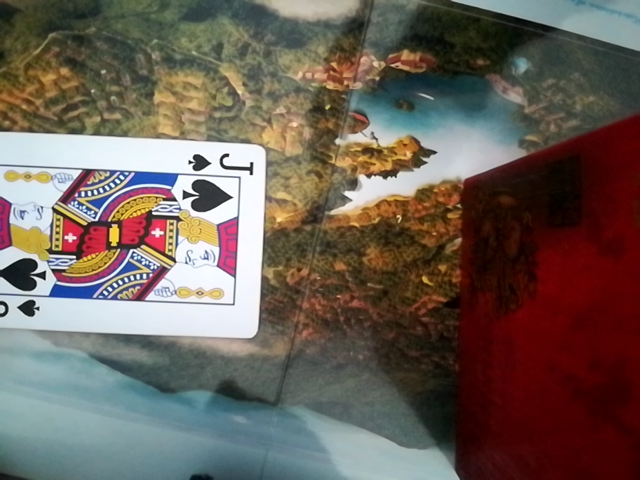ht j: (4, 128, 268, 340)
